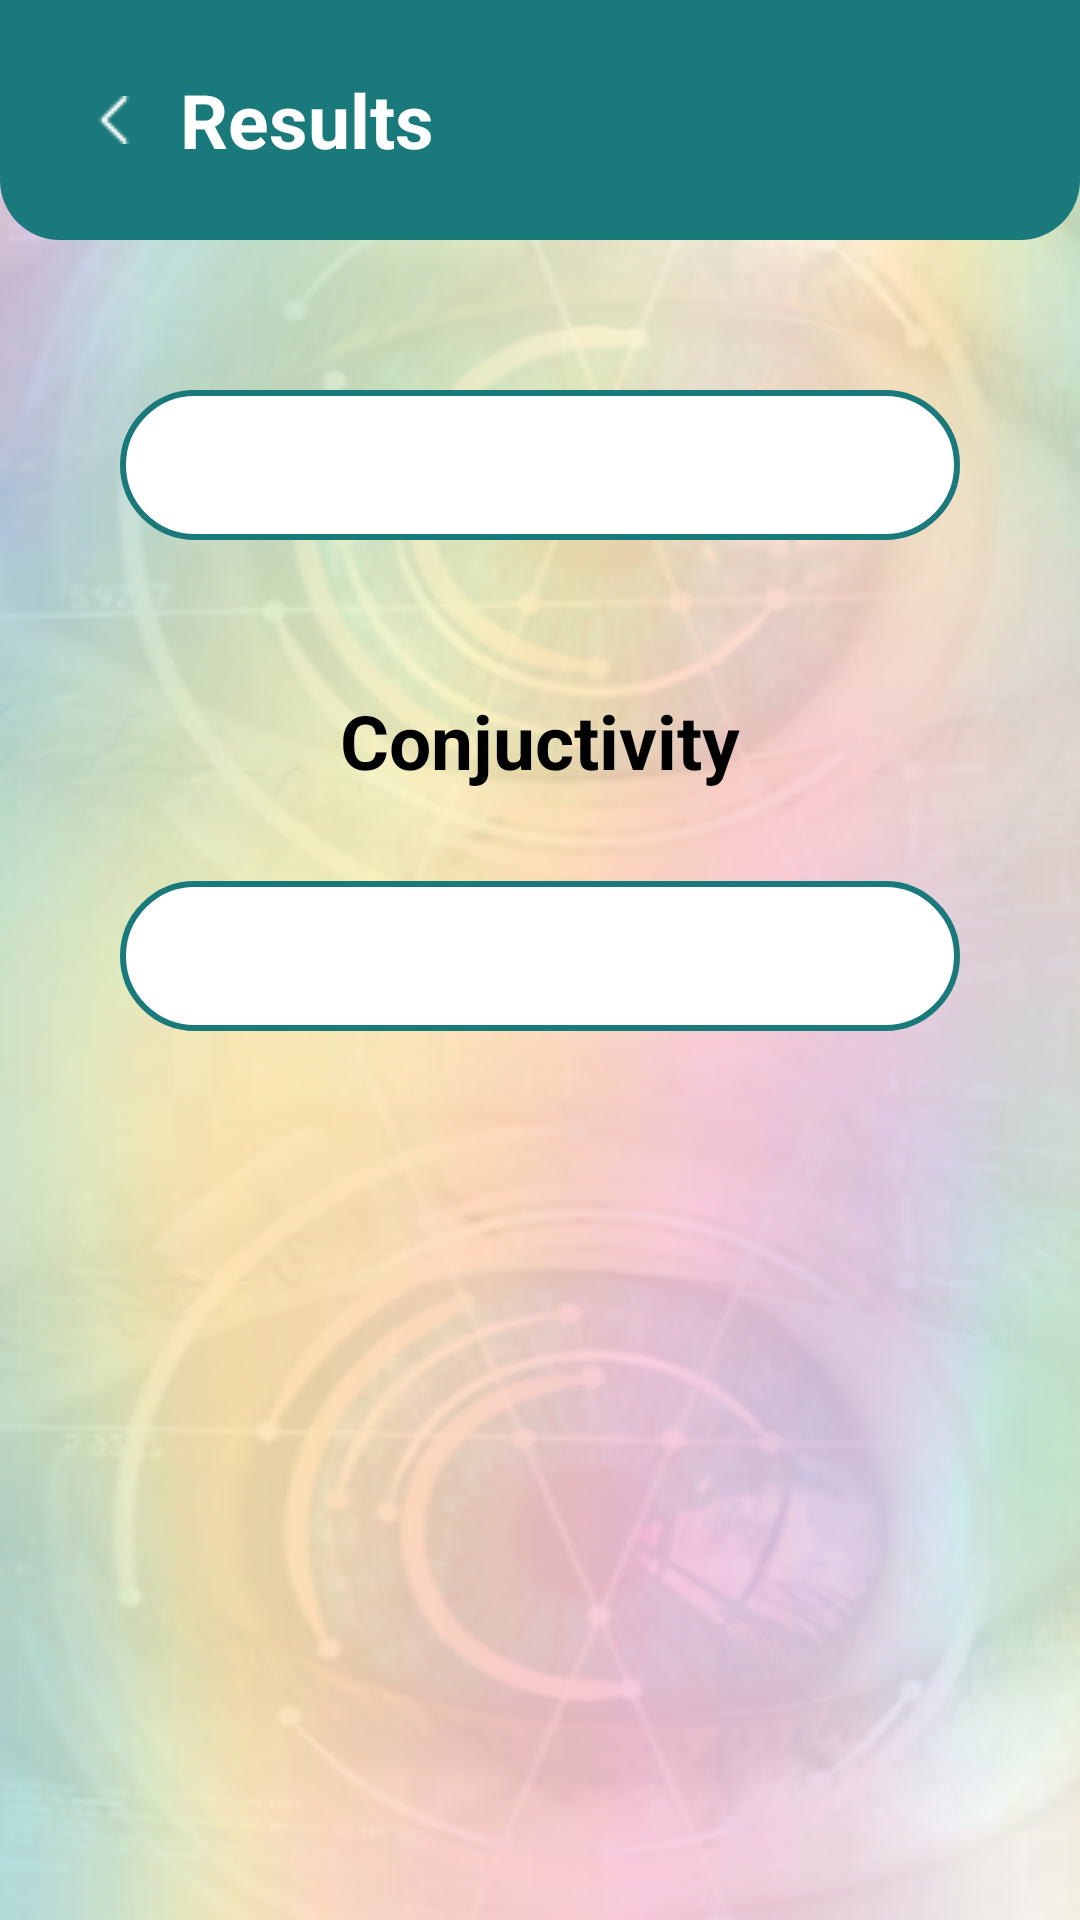

Screen size 1080x1920. Icon name, then its box in pixels as (x1, y1, x2, y2):
whitebackicon: (99, 96, 129, 144)
